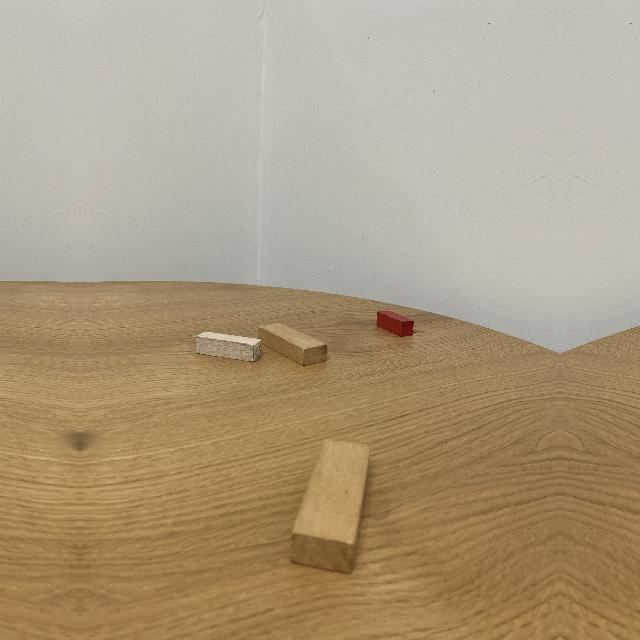block: (194, 330, 262, 362)
jenga: (288, 438, 373, 573), (258, 323, 328, 366)
red block: (376, 309, 414, 337)
